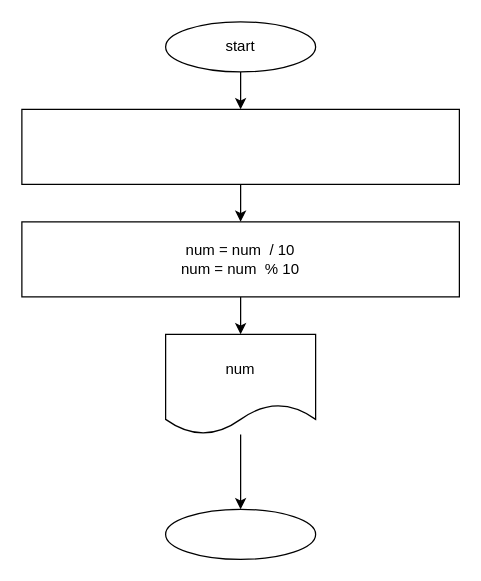
This 481x581 diagram has some shape labels left out. The box of each missing label's shape, as (x1, y1, x2, y2) in pixels:
end: (164, 508, 316, 559)
num = new Random (). Next ( 100 , 1000 );: (21, 108, 459, 184)
